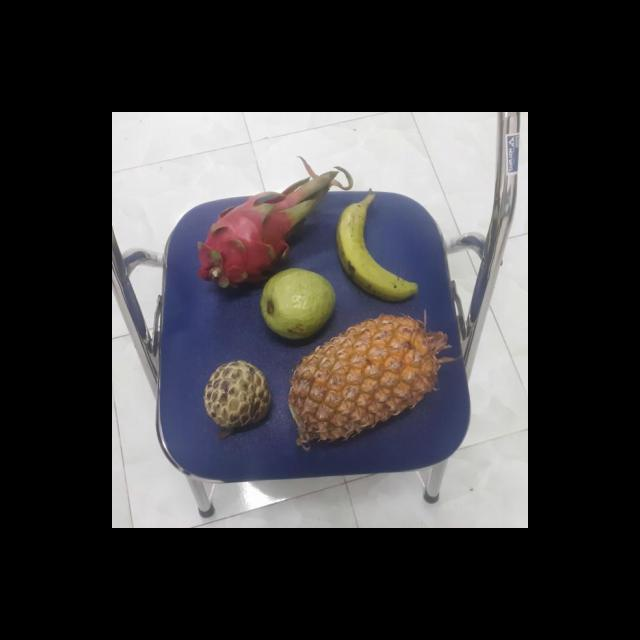Sakya fruit: (202, 360, 274, 432)
banana: (334, 196, 422, 304)
guava: (257, 266, 340, 344)
pineapple: (292, 314, 449, 448)
pitaya: (203, 190, 314, 290)
